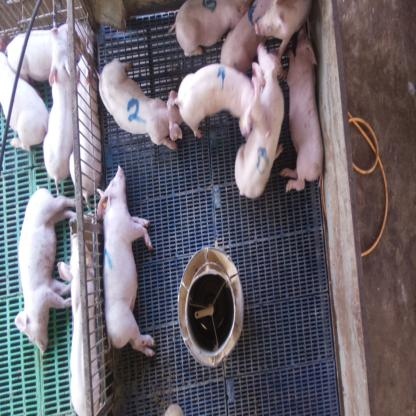1: (216, 63, 226, 90)
2: (127, 98, 147, 125)
N-A: (256, 147, 270, 173)
